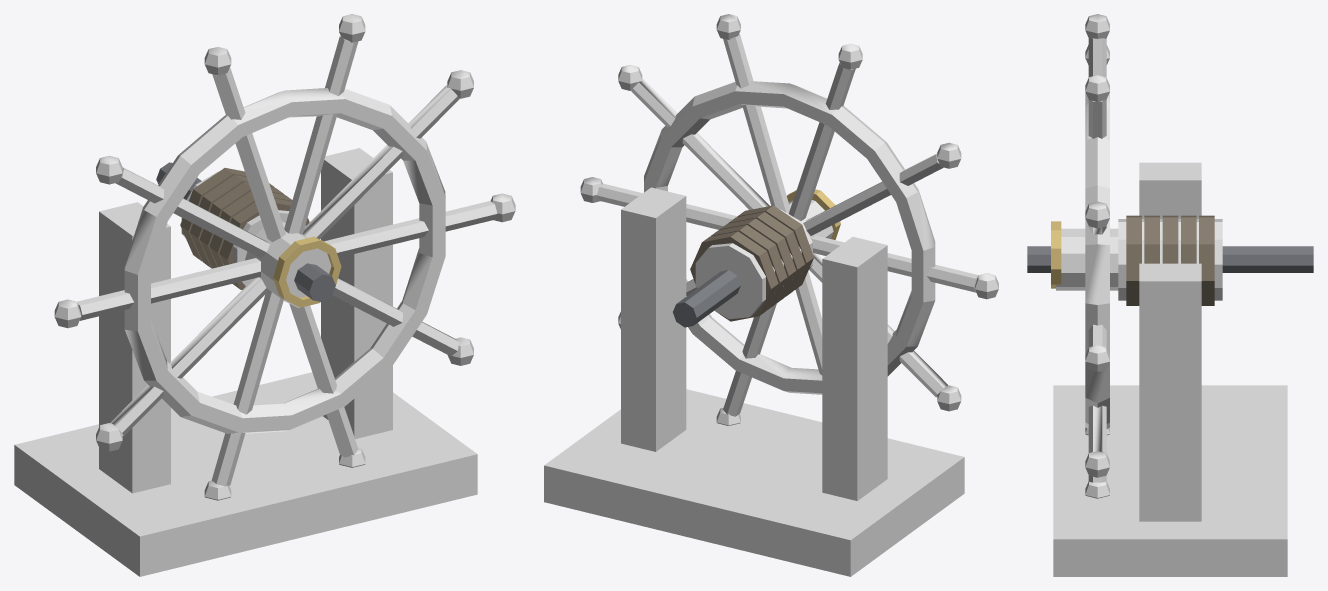
The model's file is ShipsWheel.fbx.
3 renders of one model, left to right at view 1: azimuth 30°, elevation 25°; view 2: azimuth 150°, elevation 25°; view 3: azimuth 270°, elevation 25°, orthographic. The views are drawn at different scales.
Parts seen in each view (by area): view 1: ships-wheel, wheel/deck, wheel/brass; view 2: ships-wheel, wheel/deck; view 3: ships-wheel, wheel/deck, wheel/brass.
Boxes of the visible parts, bbox=[...] form: ships-wheel: bbox=[14, 148, 477, 576]; wheel/deck: bbox=[54, 14, 515, 500]; wheel/brass: bbox=[273, 236, 341, 307]; ships-wheel: bbox=[544, 187, 964, 576]; wheel/deck: bbox=[580, 14, 998, 425]; ships-wheel: bbox=[1027, 162, 1313, 576]; wheel/deck: bbox=[1056, 14, 1118, 498]; wheel/brass: bbox=[1051, 221, 1061, 288].
Bounding box in the file's own units: 191 × 193 × 110.
